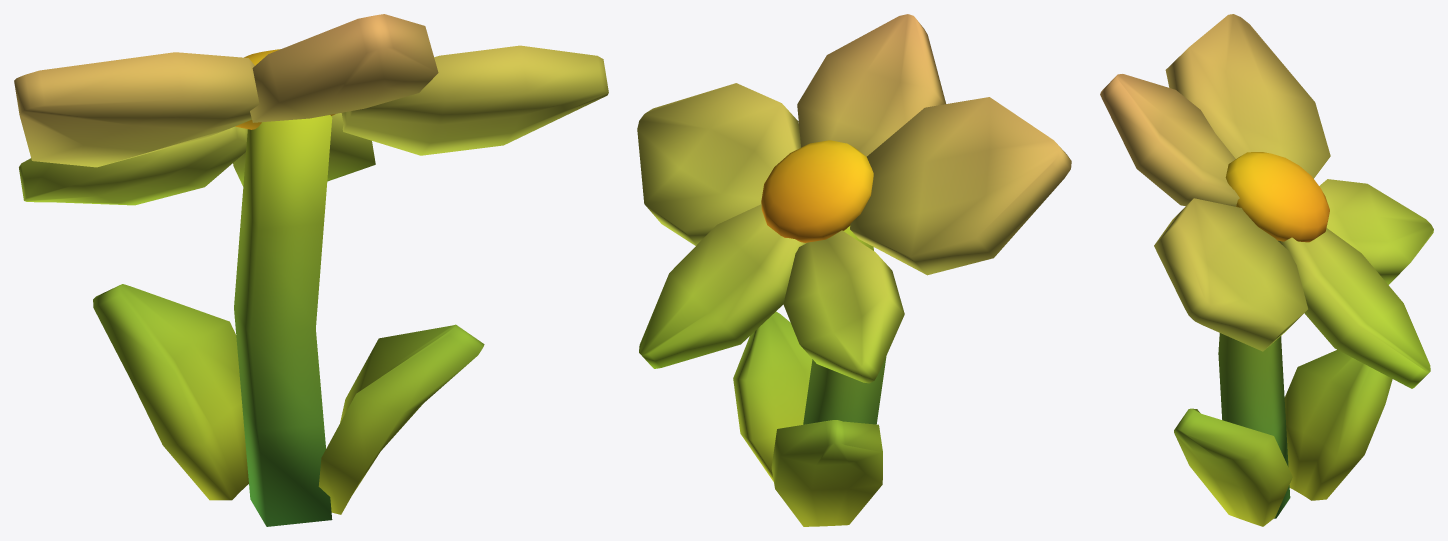
Rendered from flower_Yellow_small.fbx.
3 renders of one model, left to right at view 1: azimuth 30°, elevation 25°; view 2: azimuth 150°, elevation 25°; view 3: azimuth 270°, elevation 25°, orthographic. The views are drawn at different scales.
Parts seen in each view (by area): view 1: flower_Yellow_small; view 2: flower_Yellow_small; view 3: flower_Yellow_small.
Part boxes in pixels (x1,y1,x2,y2): flower_Yellow_small: (14,14,608,526); flower_Yellow_small: (637,14,1071,526); flower_Yellow_small: (1100,14,1433,526).
Bounding box in the file's own units: 58.25 × 55.2 × 39.28.
